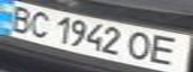1: (48, 14, 72, 44)
2: (103, 24, 127, 57)
4: (84, 20, 106, 53)
9: (66, 17, 90, 48)
B: (3, 2, 39, 34)
C: (24, 9, 57, 38)
E: (145, 33, 190, 69)
O: (124, 29, 160, 62)
